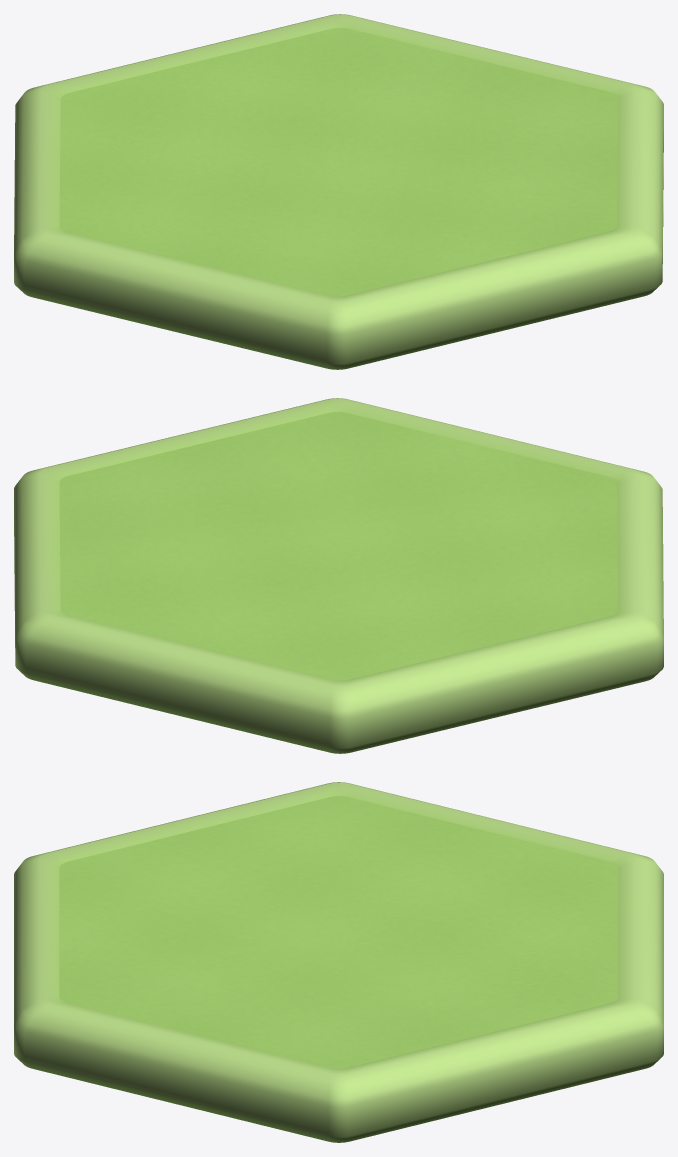
File: HexFloor_Green.fbx
3 renders of one model, top to bottom at view 1: azimuth 30°, elevation 25°; view 2: azimuth 150°, elevation 25°; view 3: azimuth 270°, elevation 25°, orthographic.
Parts seen in each view (by area): view 1: HexFloor_Green; view 2: HexFloor_Green; view 3: HexFloor_Green.
Boxes of the visible parts, x1,y1,x2,y2 form: HexFloor_Green: (14, 14, 663, 369); HexFloor_Green: (14, 398, 663, 753); HexFloor_Green: (14, 782, 663, 1142).
Bounding box in the file's own units: 1 × 0.095 × 0.866.
1 material, 1 textured.
